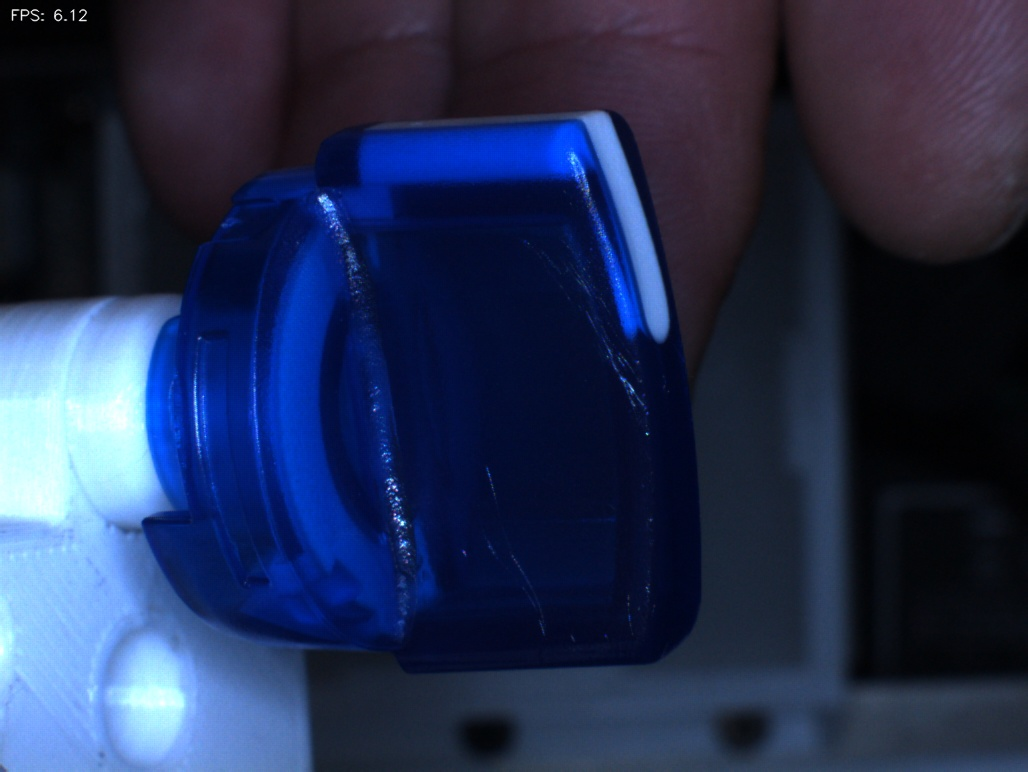Givrage: (521, 222, 640, 405), (459, 463, 556, 636)
